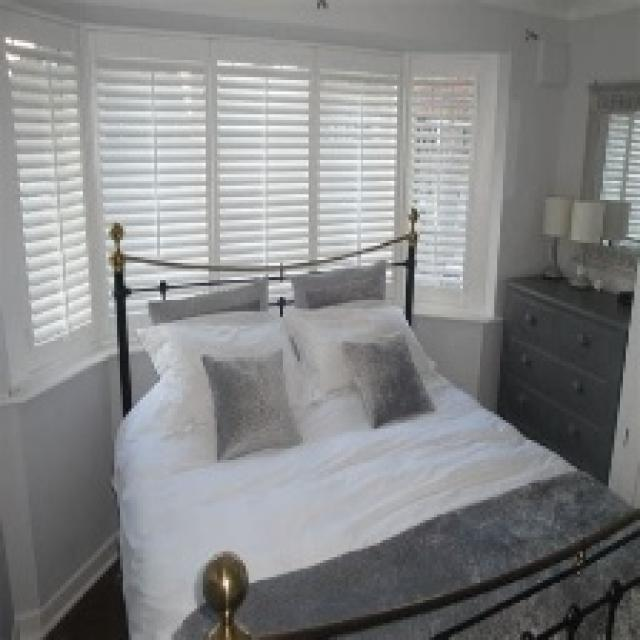Bed: (106, 206, 637, 637)
